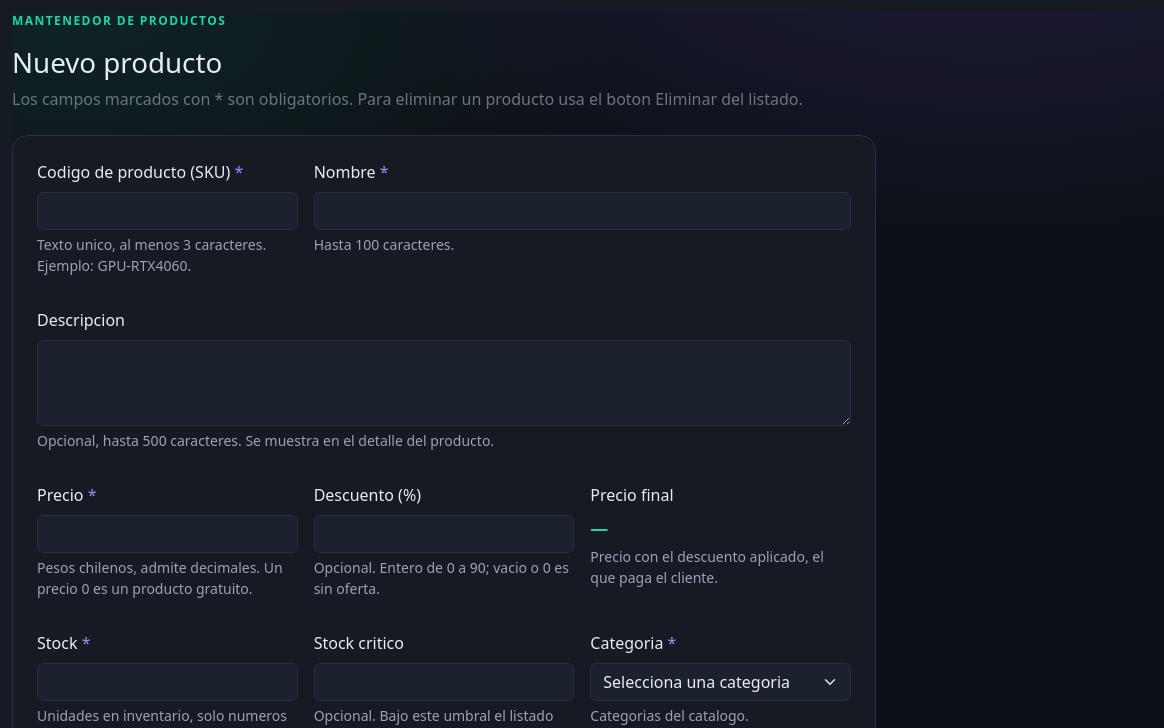
Test: admin / FormularioProducto › crear › el precio final refleja el descuento (RF-18 CA2)
This screenshot has width=1164, height=728.
Expected: the text named "Precio final" reads "—", [590,516,608,540]
Type "10000" into the number field labelled "Precio *" at (167, 534), box [37,515,298,553]
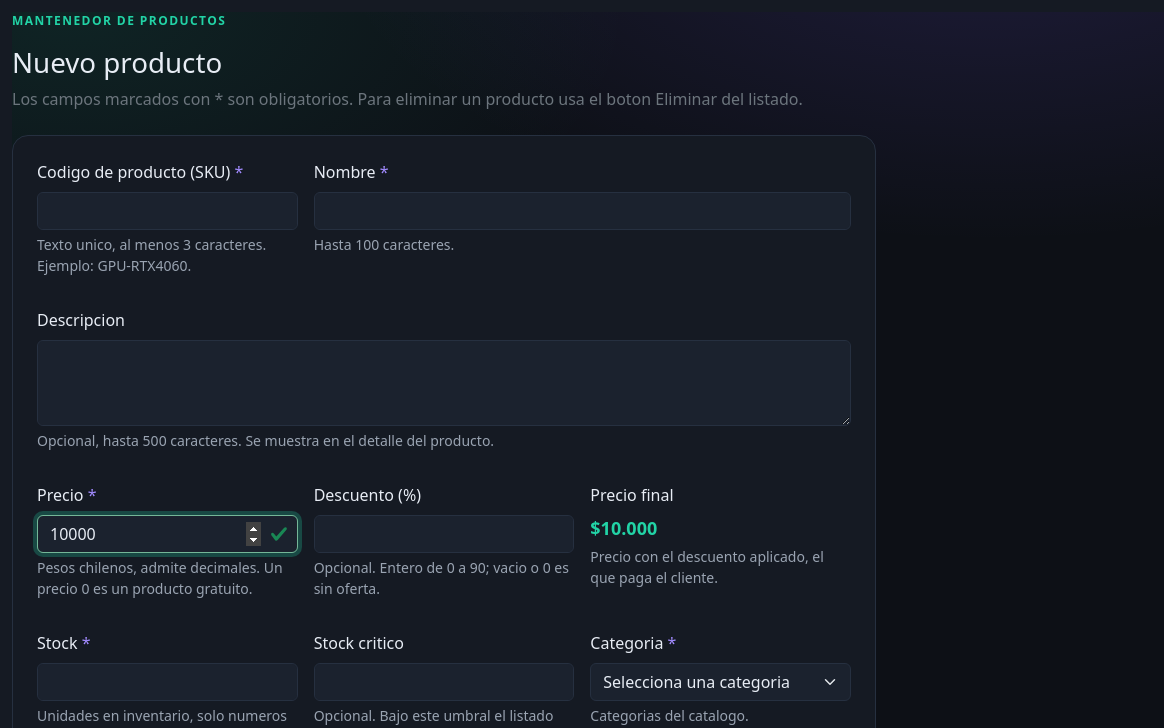
Type "10" into the number field labelled "Descuento (%)" at (444, 534), box [314,515,574,553]
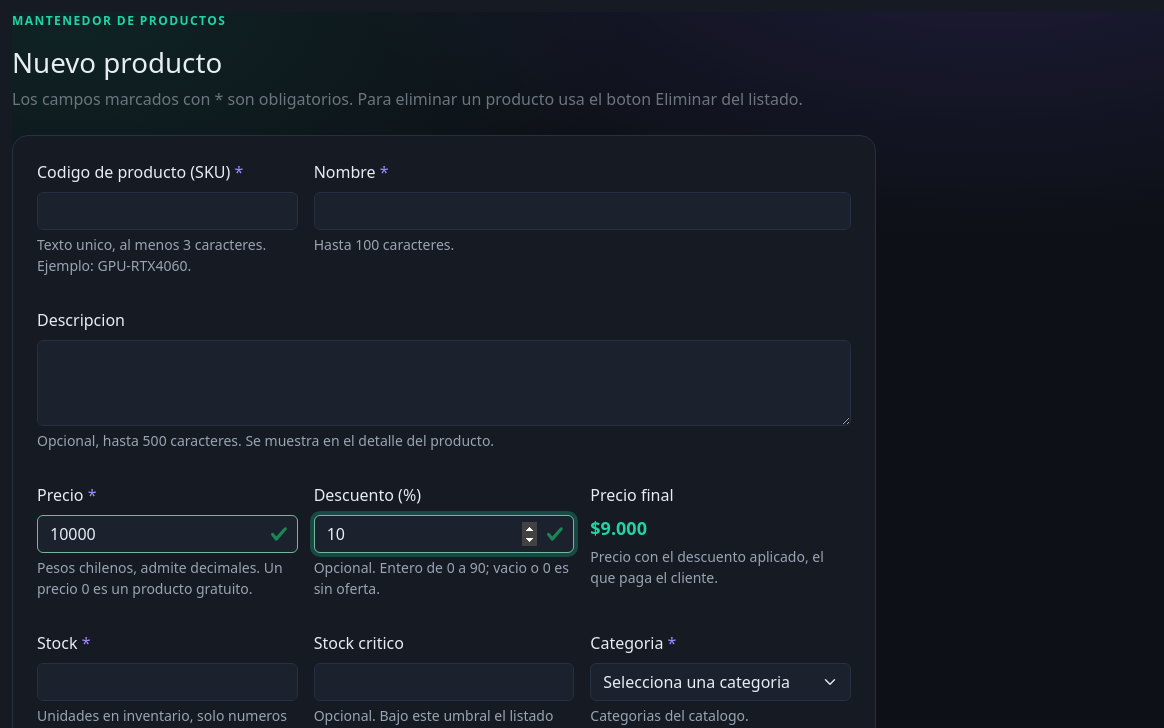
Result: the text named "Precio final" reads "$9.000" at [590,516,647,540]
